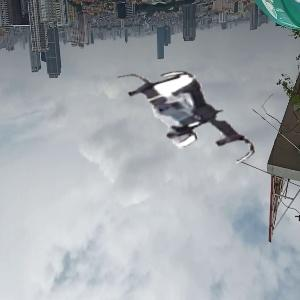drone: (128, 55, 255, 182)
